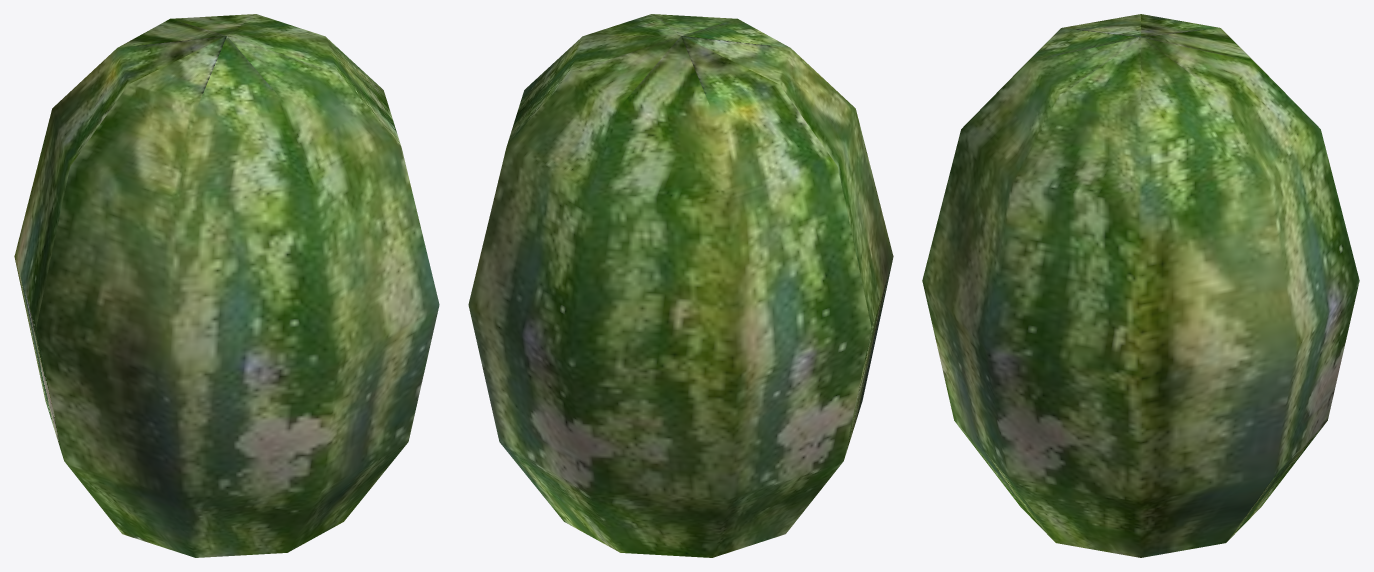
The model's file is Watermelon-col.glb.
3 views of the same model, side by side, from view 1: azimuth 30°, elevation 25°; view 2: azimuth 150°, elevation 25°; view 3: azimuth 270°, elevation 25° (orthographic).
Parts seen in each view (by area): view 1: Watermelon-col; view 2: Watermelon-col; view 3: Watermelon-col.
Boxes of the visible parts, bbox=[...] form: Watermelon-col: bbox=[14, 14, 439, 557]; Watermelon-col: bbox=[468, 14, 893, 557]; Watermelon-col: bbox=[922, 14, 1359, 557].
Bounding box in the file's own units: 0.3786 × 0.4779 × 0.3786.
1 material, 1 textured.
